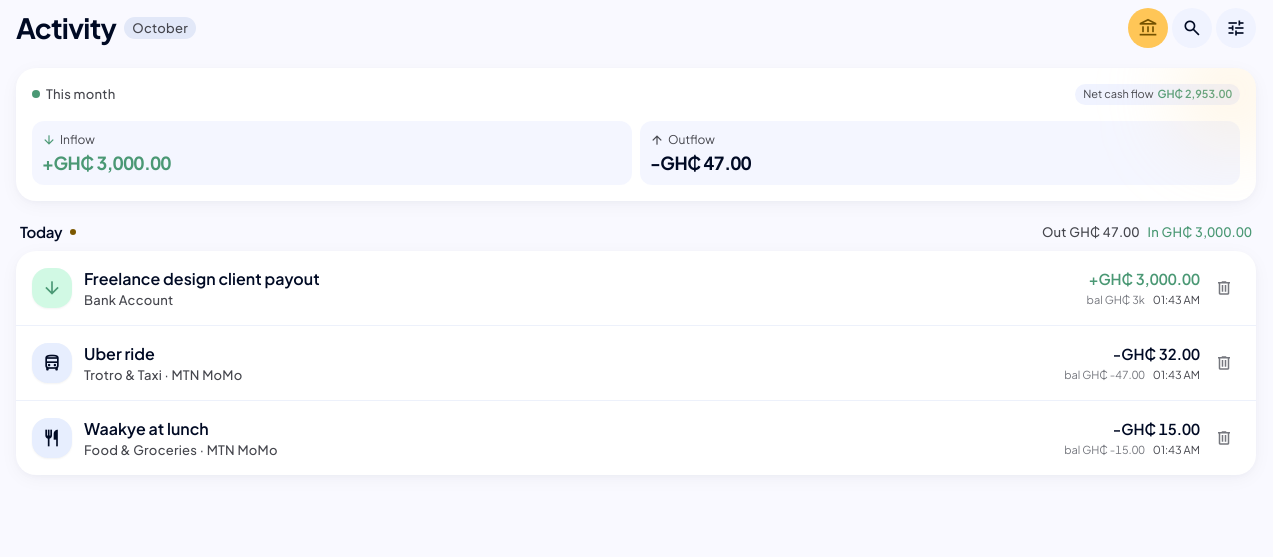
Component: ActivityView › filters activity by search keyword
The image size is (1273, 557).
Check: the text "Waakye at lunch" is shown, box [84,417,209,441]
Note: Open search
Click the button named "search transactions".
click(1192, 28)  # box [1172,8,1212,48]
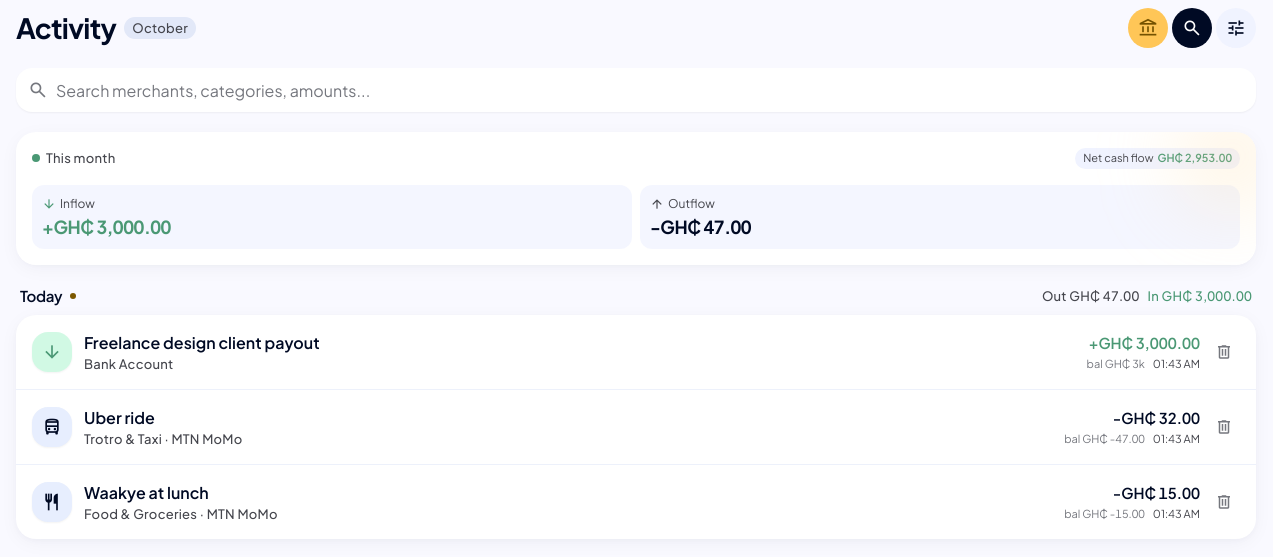
Type "Waakye" into the search field with placeholder "Search merchants, categories, amounts...".
click(636, 90); type("Waakye")  # box [16,68,1256,112]
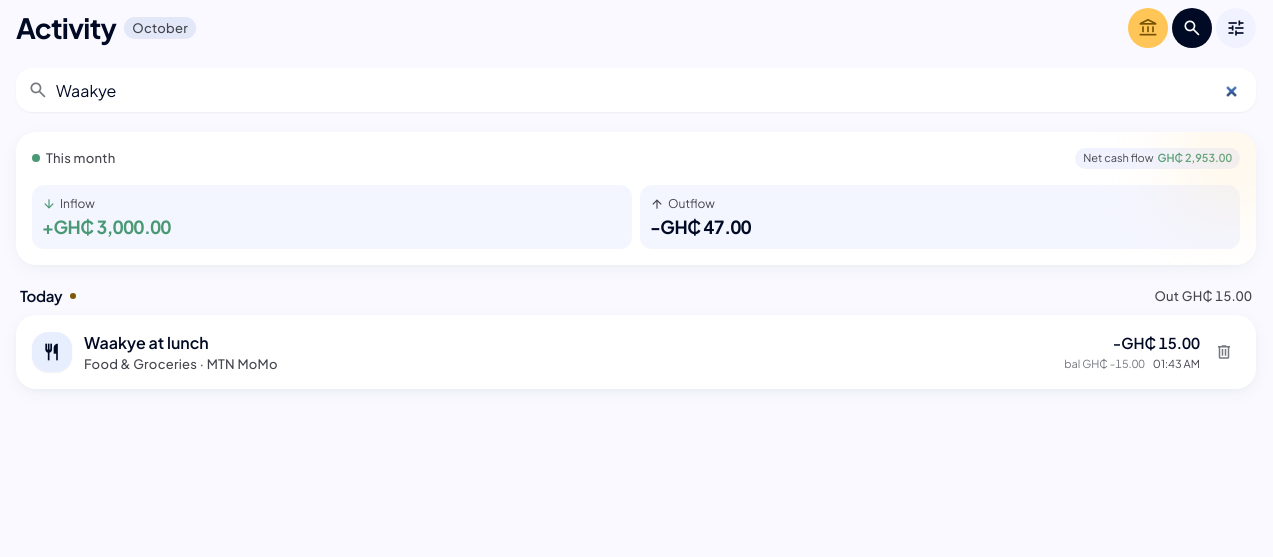
Check: the text "Waakye at lunch" is shown, box [84,331,209,355]
Check: the text "Uber ride" is gone
